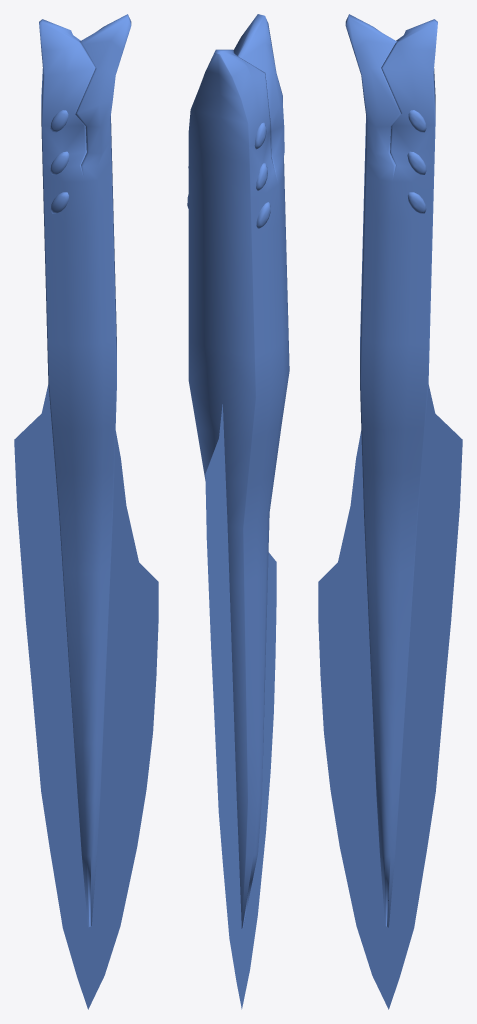
The model's file is DaggerMoray.fbx.
3 views of the same model, side by side, from view 1: azimuth 90°, elevation 25°; view 2: azimuth 150°, elevation 25°; view 3: azimuth 270°, elevation 25° (orthographic).
Visible parts, largest first — view 1: DaggerMoray; view 2: DaggerMoray; view 3: DaggerMoray.
Part boxes in pixels (x1,y1,x2,y2): DaggerMoray: (14,14,158,1009); DaggerMoray: (187,14,289,1009); DaggerMoray: (318,14,462,1009).
Size of the model in its own units: 41.68 by 477 by 62.87.
